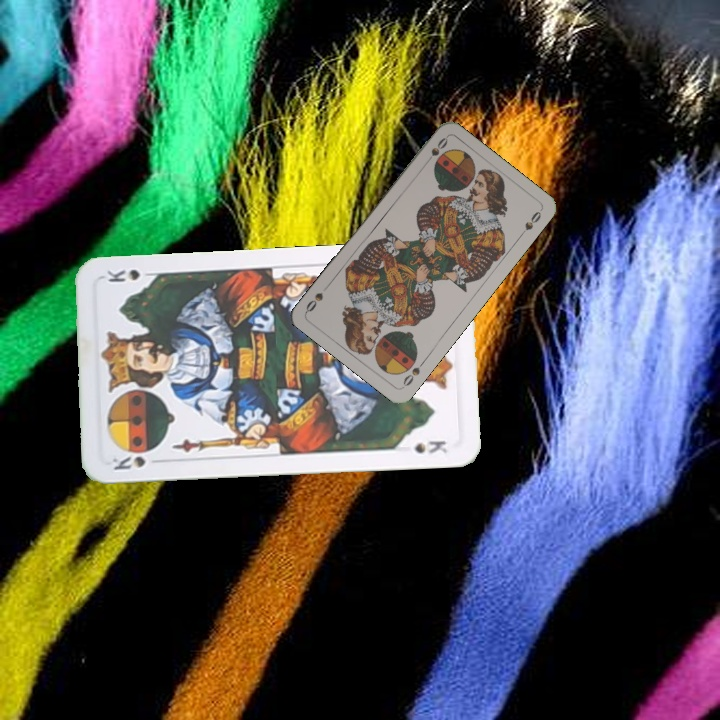SK: (108, 452, 148, 473)
SO: (420, 133, 451, 168), (399, 356, 428, 390)
